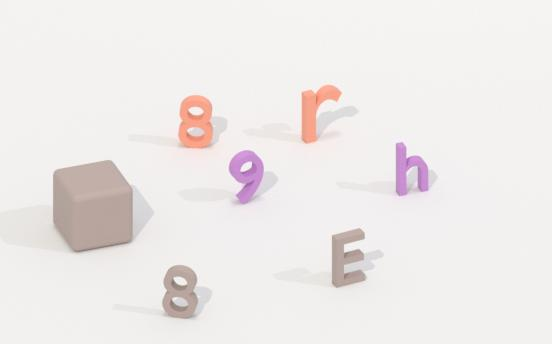8: (159, 263, 206, 323), (174, 91, 219, 153)
9: (222, 147, 270, 204)
E-hoa: (327, 227, 371, 291)
R: (295, 86, 350, 148)
h: (392, 141, 434, 198)
hop: (53, 161, 136, 254)
